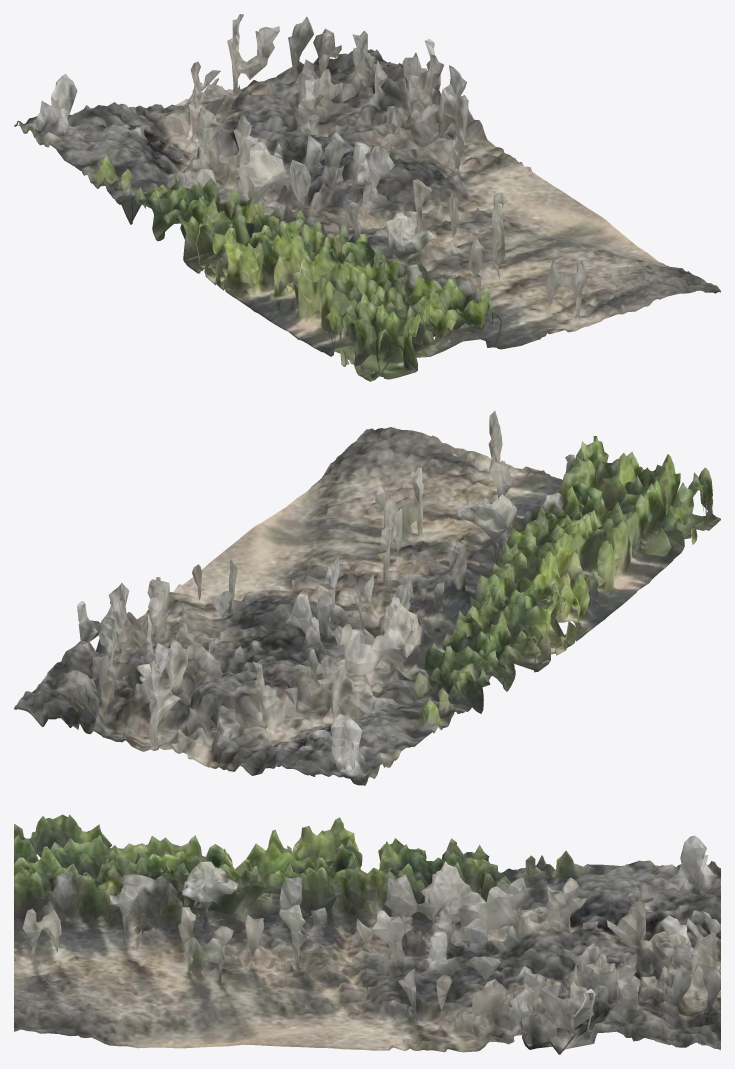
Rendered from Block_L17_51.glb.
The picture shows the model from 3 angles, top to bottom: view 1: azimuth 30°, elevation 25°; view 2: azimuth 150°, elevation 25°; view 3: azimuth 270°, elevation 25°; orthographic projection.
Parts seen in each view (by area): view 1: rtc; view 2: rtc; view 3: rtc.
Boxes of the visible parts, x1,y1,x2,y2 form: rtc: (14, 14, 720, 381); rtc: (14, 411, 720, 785); rtc: (14, 814, 720, 1054).
Bounding box in the file's own units: 40.29 × 9.79 × 70.55.
Materials: 4 (4 with a texture image).
